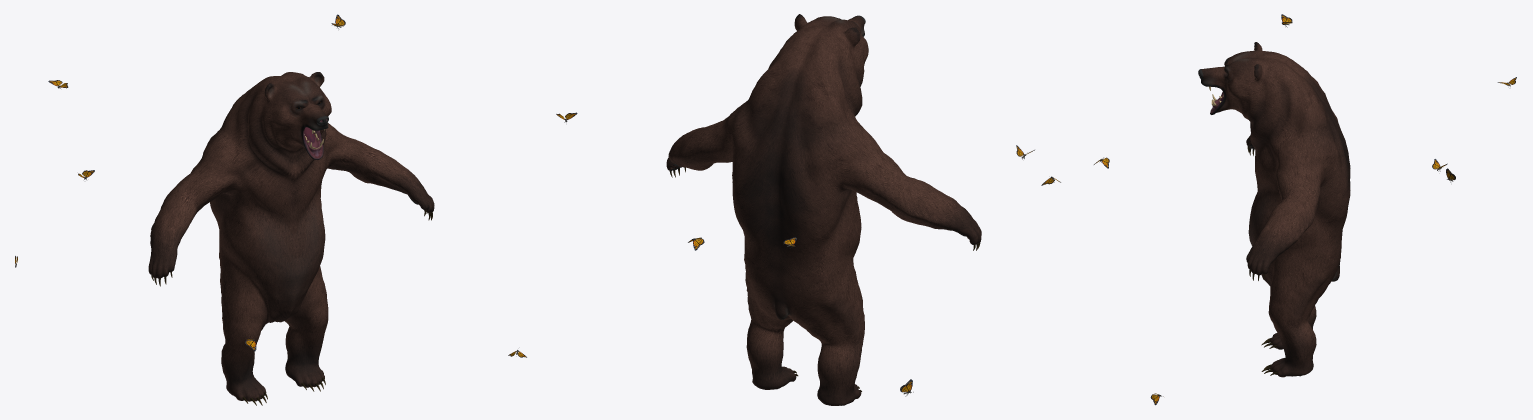
File: strong_bear.glb
3 views of the same model, side by side, from view 1: azimuth 30°, elevation 25°; view 2: azimuth 150°, elevation 25°; view 3: azimuth 270°, elevation 25° (orthographic). The views are drawn at different scales.
Visible parts, largest first — view 1: BearLow; view 2: BearLow; view 3: BearLow.
Part boxes in pixels (x1,y1,x2,y2): BearLow: (148,72,434,405); BearLow: (666,14,981,405); BearLow: (1198,42,1350,377).
Bounding box in the file's own units: 3.05 × 2.45 × 3.1.
1 material, 1 textured.
